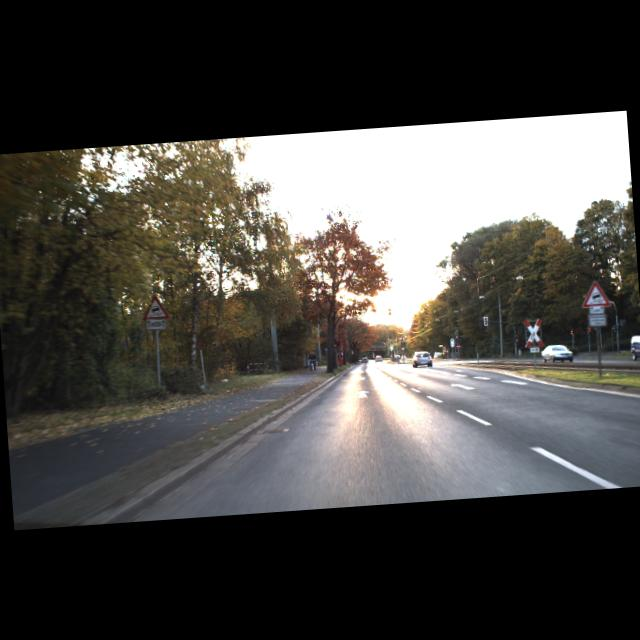danger: (580, 280, 612, 308), (140, 293, 170, 320)
